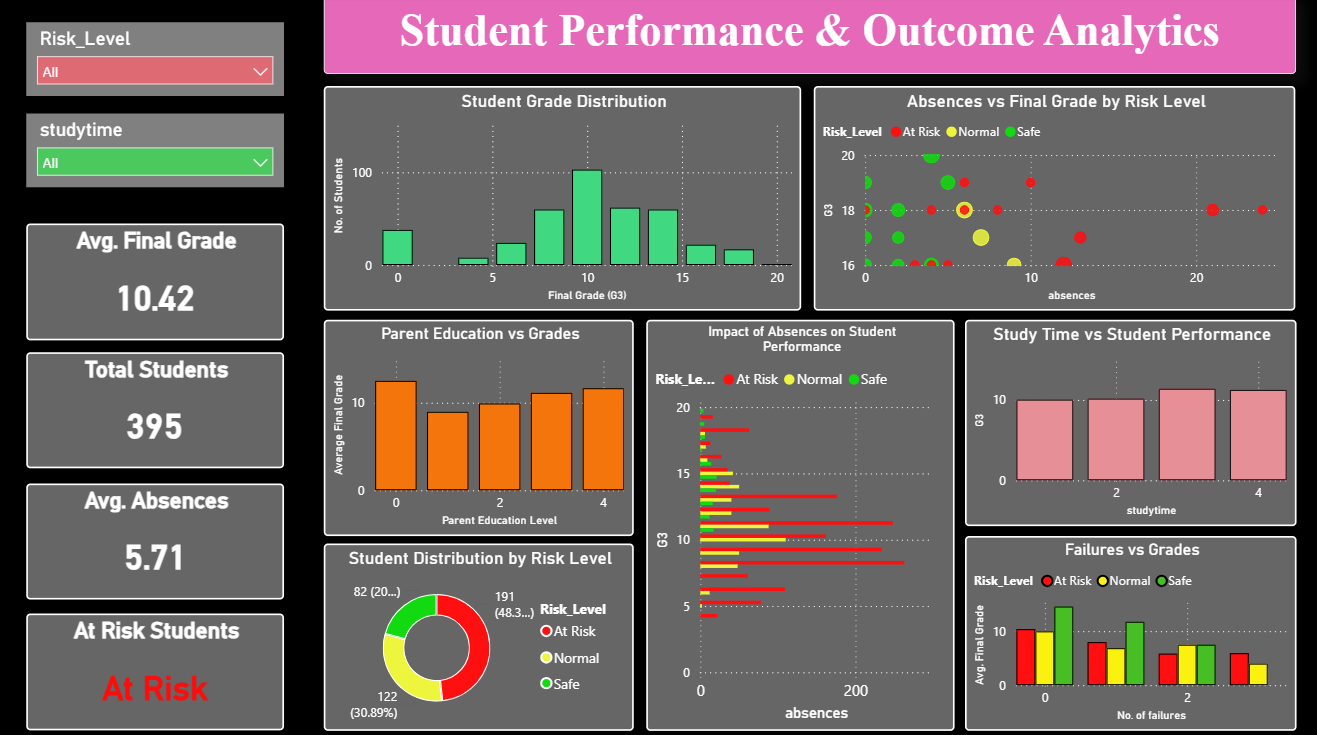

Layout of this report page (visuals, bound fields, positions):
{"tool":"powerbi","page":{"name":"Page 1","canvas":[1280,720],"ordinal":0},"visuals":[{"type":"textbox","box":[317,0,938.6,75.5],"z":0},{"type":"card","title":"Avg. Final Grade","fields":{"Values":["Avg(student-mat.G3)"]},"box":[30.7,219.2,248.5,113.1],"z":1000},{"type":"card","title":"Total Students","fields":{"Values":["CountNonNull(student-mat.G3)"]},"box":[30.7,343.5,248.5,111.7],"z":2000},{"type":"card","title":"Avg. Absences","fields":{"Values":["Avg(student-mat.absences)"]},"box":[30.7,470.5,248.5,111.7],"z":3000},{"type":"card","title":"At Risk Students","fields":{"Values":["Min(student-mat.Risk_Level)"]},"box":[30.7,596.2,248.5,113.1],"z":4000},{"type":"clusteredColumnChart","title":"Student Grade Distribution","fields":{"Y":["CountNonNull(student-mat.G3)"],"Category":["student-mat.G3 (bins)"]},"box":[317,86.4,461.1,216.8],"z":5000},{"type":"scatterChart","title":"Absences vs Final Grade by Risk Level","fields":{"X":["student-mat.absences"],"Y":["student-mat.G3"],"Series":["student-mat.Risk_Level"],"Size":["Avg(student-mat.studytime)"]},"box":[790.4,86.4,465.2,216.8],"z":6000},{"type":"clusteredColumnChart","title":"Study Time vs Student Performance","fields":{"Category":["student-mat.studytime"],"Y":["Avg(student-mat.G3)"]},"box":[935.9,312.9,319.7,199],"z":7000},{"type":"clusteredBarChart","title":"Impact of Absences on Student Performance","fields":{"Series":["student-mat.Risk_Level"],"Category":["student-mat.G3"],"Y":["Sum(student-mat.absences)"]},"box":[628.6,312.5,298,396.9],"z":8000},{"type":"donutChart","title":"Student Distribution by Risk Level","fields":{"Y":["CountNonNull(student-mat.Risk_Level)"],"Category":["student-mat.Risk_Level"]},"box":[317.3,528.4,299.2,181],"z":9000},{"type":"slicer","title":"Risk Level","fields":{"Values":["student-mat.Risk_Level"]},"box":[30.7,25.1,248.5,71.2],"z":10000},{"type":"slicer","title":"Risk Level","fields":{"Values":["student-mat.studytime"]},"box":[30.7,113.1,248.5,71.2],"z":11000},{"type":"clusteredColumnChart","title":"Parent Education vs Grades","fields":{"Category":["student-mat.Parent_Edu (bins)"],"Y":["Avg(student-mat.G3)"]},"box":[317,312.9,299.1,208.6],"z":12000},{"type":"clusteredColumnChart","title":"Failures vs Grades","fields":{"Y":["Avg(student-mat.G3)"],"Category":["student-mat.failures"],"Series":["student-mat.Risk_Level"]},"box":[935.9,521.4,319.7,188],"z":13000}]}

Visuals, with their boxes in screenshot pixels (x1, y1, x2, y2), scaled from the page's 1280x720 canvas onto the 1317x735 screenshot:
textbox: (326, 0, 1292, 77)
"Avg. Final Grade" card: (32, 224, 287, 339)
"Total Students" card: (32, 351, 287, 465)
"Avg. Absences" card: (32, 480, 287, 594)
"At Risk Students" card: (32, 609, 287, 724)
"Student Grade Distribution" clusteredColumnChart: (326, 88, 801, 310)
"Absences vs Final Grade by Risk Level" scatterChart: (813, 88, 1292, 310)
"Study Time vs Student Performance" clusteredColumnChart: (963, 319, 1292, 523)
"Impact of Absences on Student Performance" clusteredBarChart: (647, 319, 953, 724)
"Student Distribution by Risk Level" donutChart: (326, 539, 634, 724)
"Risk Level" slicer: (32, 26, 287, 98)
"Risk Level" slicer: (32, 115, 287, 188)
"Parent Education vs Grades" clusteredColumnChart: (326, 319, 634, 532)
"Failures vs Grades" clusteredColumnChart: (963, 532, 1292, 724)
